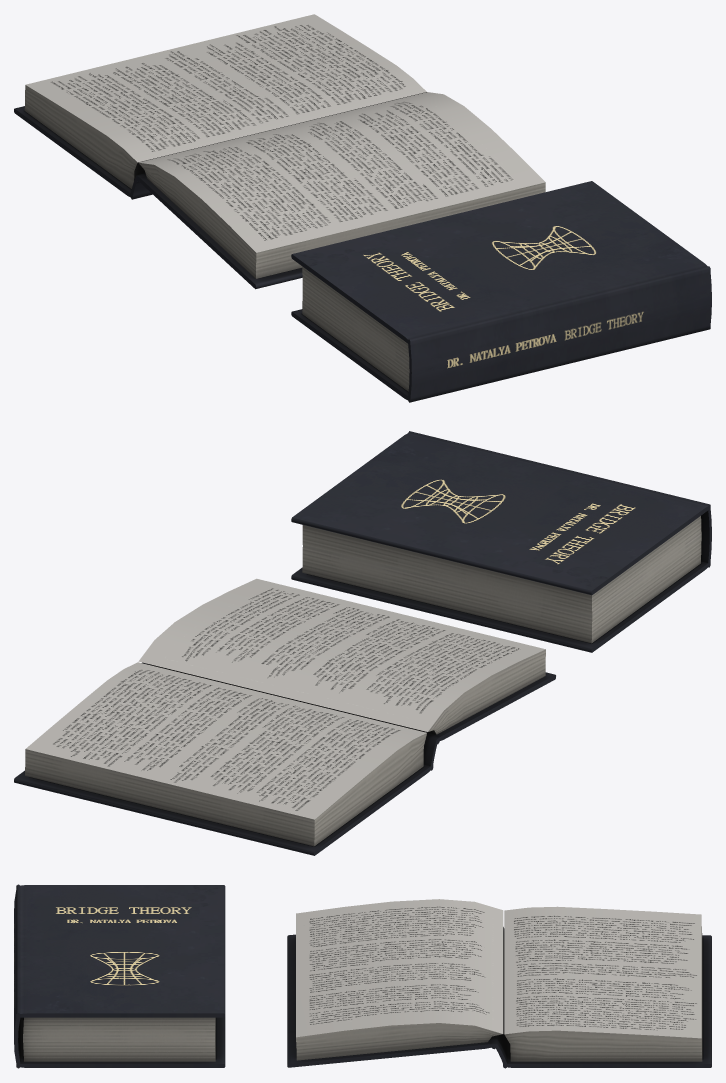
File: book.glb
3 renders of one model, top to bottom at view 1: azimuth 30°, elevation 25°; view 2: azimuth 150°, elevation 25°; view 3: azimuth 270°, elevation 25°, orthographic. The views are drawn at different scales.
Parts seen in each view (by area): view 1: book_a_open, book_a; view 2: book_a_open, book_a; view 3: book_a_open, book_a.
Part boxes in pixels (<box>): book_a_open: <box>14,14,545,289</box>; book_a: <box>291,181,711,402</box>; book_a_open: <box>14,578,555,855</box>; book_a: <box>291,431,711,652</box>; book_a_open: <box>287,899,711,1068</box>; book_a: <box>14,884,225,1068</box>.
Bounding box in the file's own units: 20.1 × 4.06 × 46.14.
2 materials, 2 textured.
